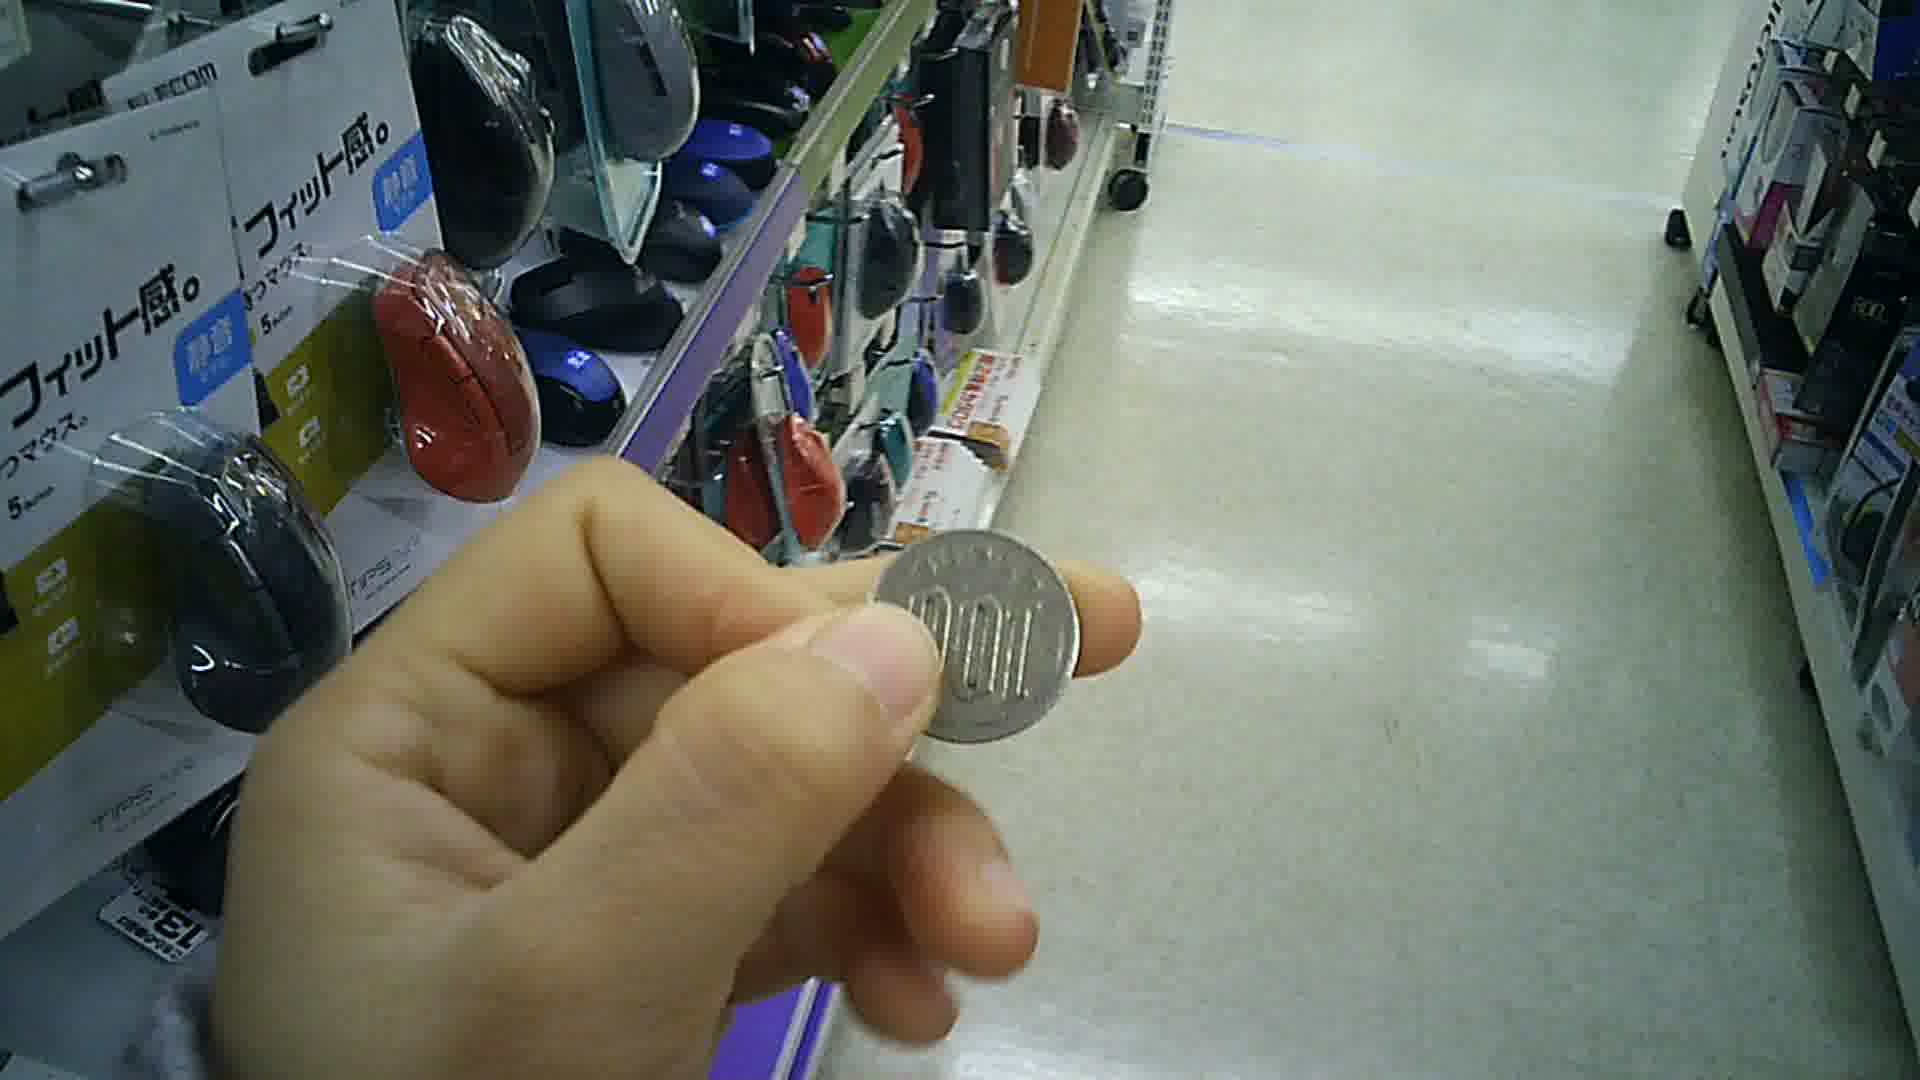100 Yen: (868, 510, 1087, 750)
